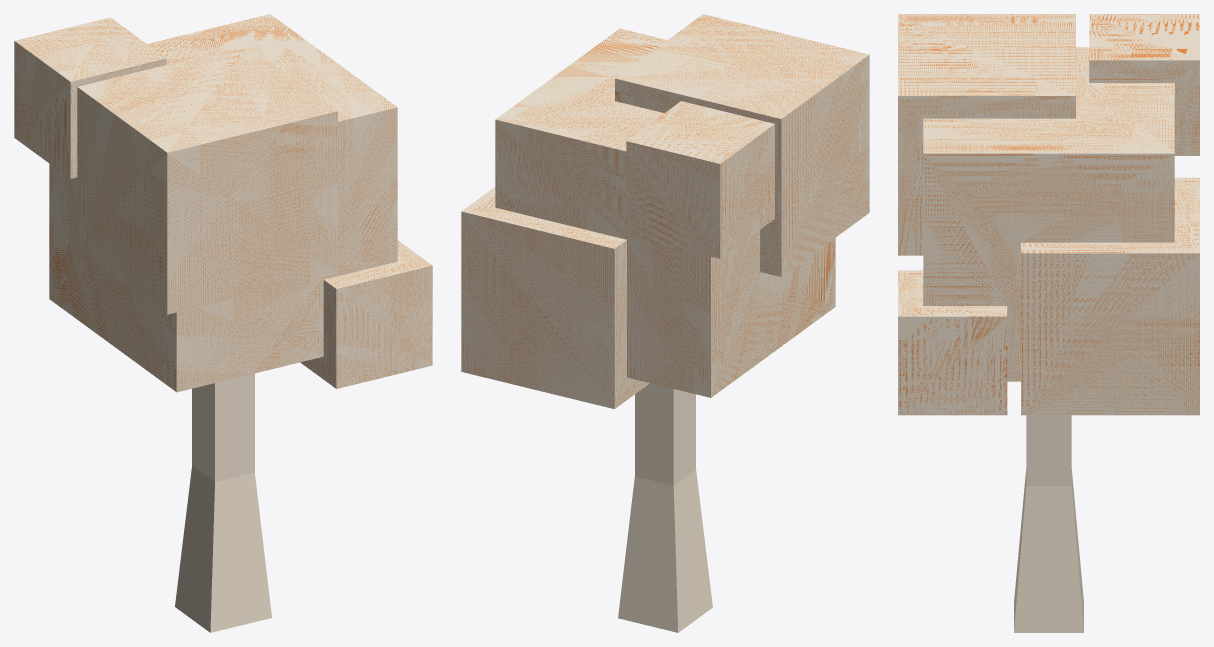
Rendered from tree_blocks_fall.dae.
The picture shows the model from 3 angles, left to right: view 1: azimuth 30°, elevation 25°; view 2: azimuth 150°, elevation 25°; view 3: azimuth 270°, elevation 25°; orthographic projection. The views are drawn at different scales.
Visible parts, largest first — view 1: tree_blocks_fall; view 2: tree_blocks_fall; view 3: tree_blocks_fall.
Boxes of the visible parts, x1,y1,x2,y2 form: tree_blocks_fall: [14, 14, 432, 632]; tree_blocks_fall: [461, 14, 869, 632]; tree_blocks_fall: [898, 14, 1199, 632].
Size of the model in its own units: 0.6 by 1.18 by 0.6.
